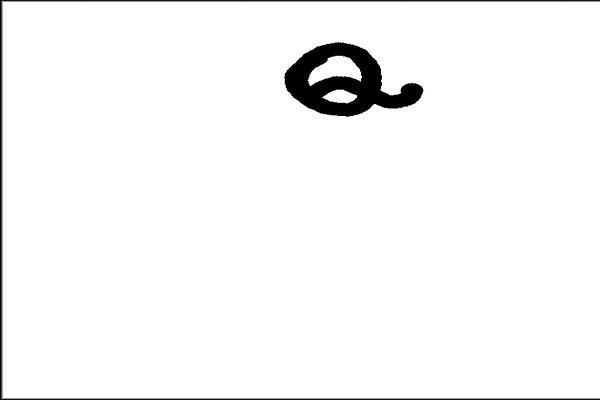Q: (269, 33, 429, 131)
